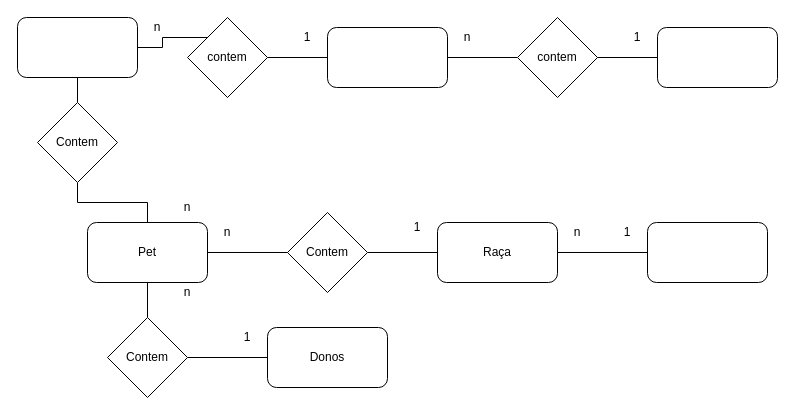
The diagram is 795 pixels wide and 415 high, and some of its shapes have lost their labels. Here are the shapes that lost their labels. From the top down, the centre of each, then its label:
point 77,47: Atendimentos
point 387,57: Veterinarios
point 717,57: Clinicas
point 707,252: Tipo
